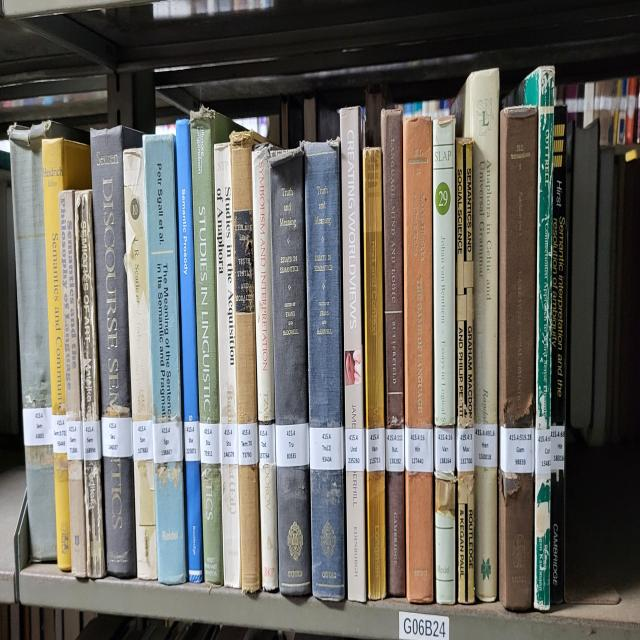Book: (454, 68, 500, 603), (10, 122, 64, 560), (90, 127, 142, 576), (190, 108, 236, 584), (516, 65, 555, 611), (42, 138, 90, 571), (499, 106, 538, 609), (304, 141, 345, 601), (144, 135, 186, 584), (269, 149, 311, 595), (402, 116, 434, 603), (122, 149, 158, 579), (230, 130, 261, 593), (176, 119, 204, 582), (340, 108, 366, 601), (381, 111, 406, 595), (75, 189, 106, 579), (252, 143, 279, 590), (214, 143, 240, 587), (432, 122, 456, 603), (362, 149, 386, 601), (59, 189, 86, 576), (550, 106, 569, 606), (455, 138, 475, 603)
Label: (275, 422, 309, 468), (500, 427, 534, 473), (309, 427, 344, 471), (405, 427, 434, 473), (101, 417, 132, 457), (152, 422, 182, 463), (22, 406, 52, 446), (474, 425, 498, 468), (385, 427, 405, 473), (435, 427, 455, 473), (238, 422, 259, 465), (132, 419, 154, 460), (345, 427, 365, 471), (199, 422, 220, 463), (366, 427, 385, 471), (456, 427, 474, 473), (220, 422, 239, 465), (82, 419, 101, 460), (66, 419, 84, 460), (535, 427, 551, 473), (184, 419, 200, 463), (550, 425, 565, 471), (259, 425, 276, 465), (52, 414, 68, 455)
